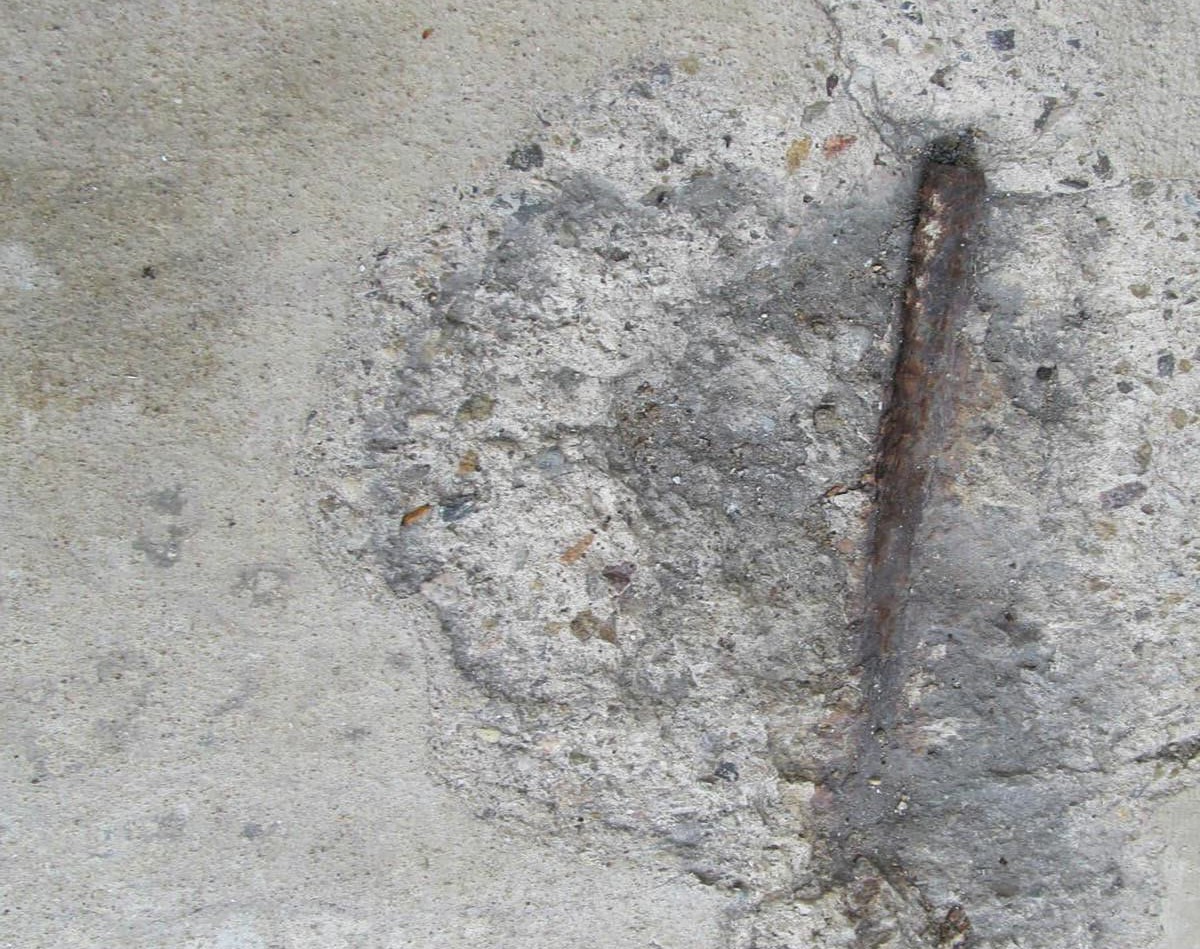Exposed reinforcement: (862, 161, 986, 641)
Spalling: (291, 1, 1200, 949)
